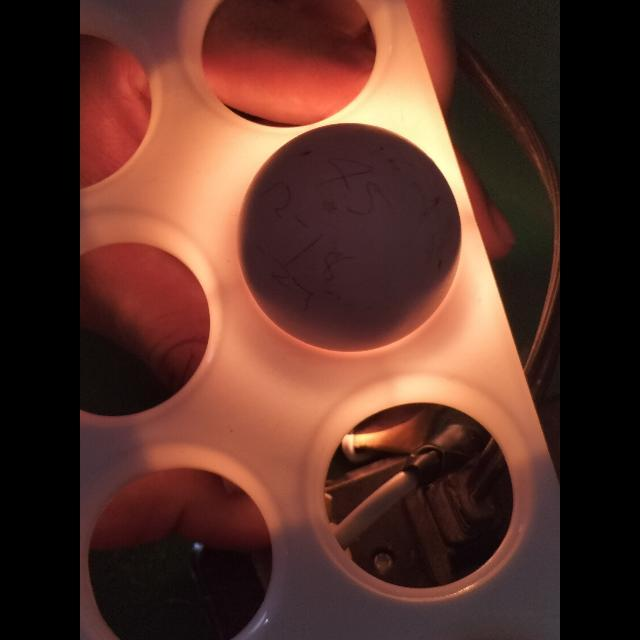Fertile: (246, 115, 457, 352)
